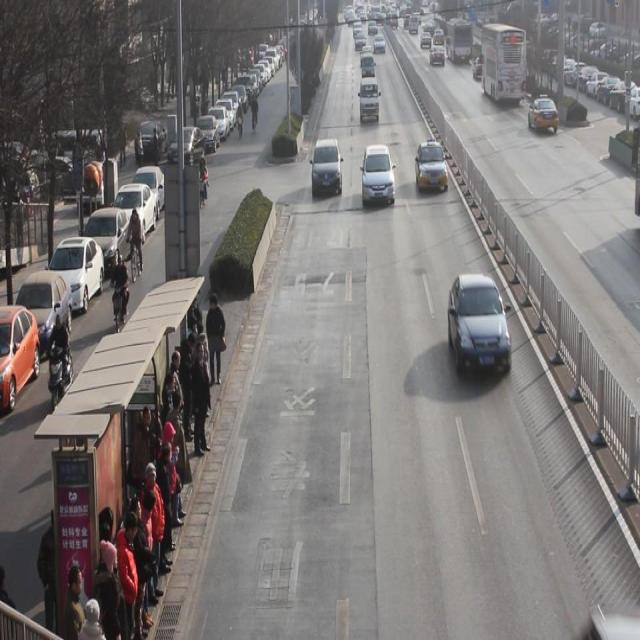car: (449, 273, 512, 375), (362, 143, 396, 205), (313, 137, 344, 198), (416, 142, 449, 192), (529, 97, 561, 134), (474, 57, 489, 80)
truck: (360, 77, 380, 123), (361, 52, 376, 84)
van: (481, 23, 525, 103)
